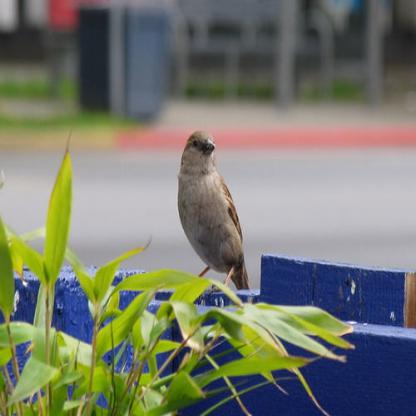bird: (177, 129, 250, 290)
